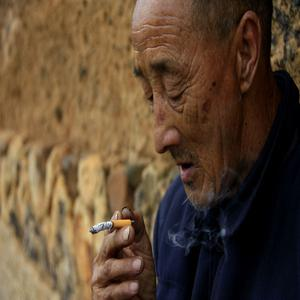cigarette: (84, 217, 135, 231)
